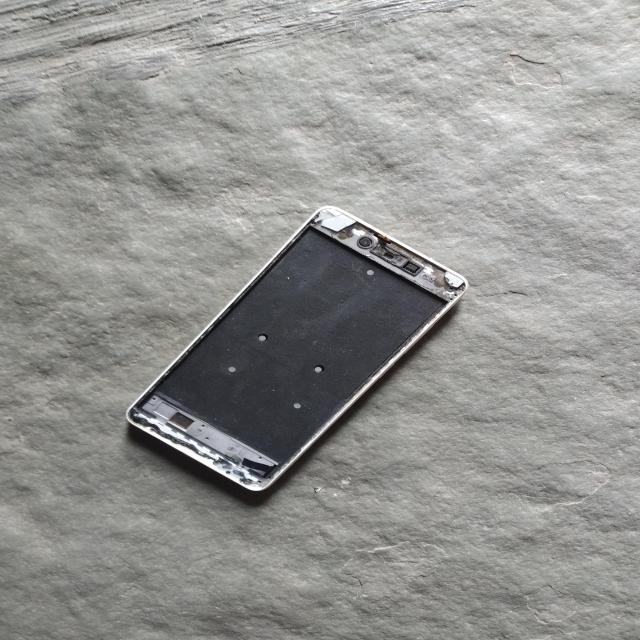phone: (122, 195, 474, 500)
